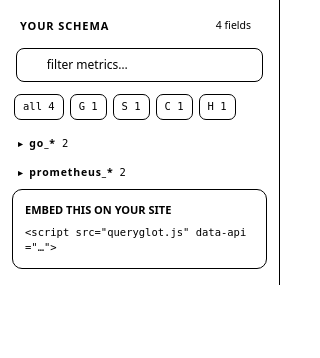
Scenario: SchemaRail › row accessible name includes the type word (badge is decoration)
Click the button "▸ go_* 2": [140, 141] box top-left (12, 128), bottom-right (267, 155)
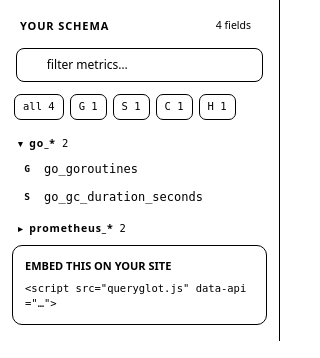
Now the button "G go_goroutines" is shown, box top-left (12, 155), bottom-right (267, 183)
